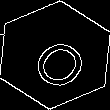O_NE: (19, 22, 91, 88)
